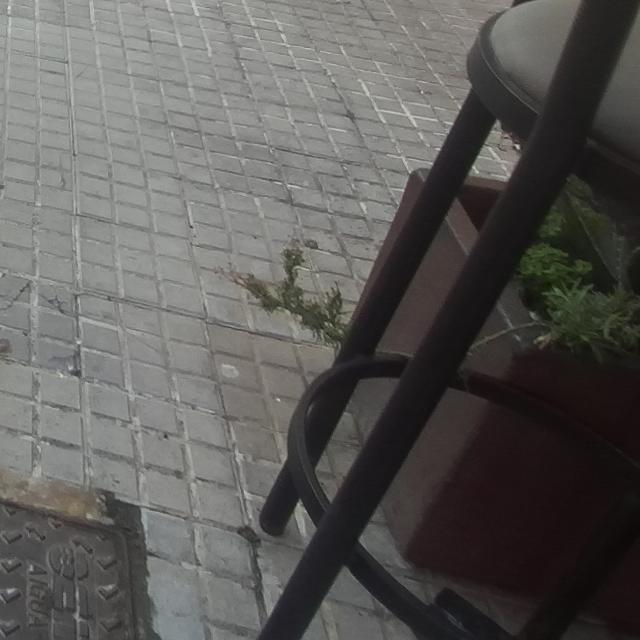calcada_quebrada: (40, 286, 74, 317), (1, 278, 34, 309)
